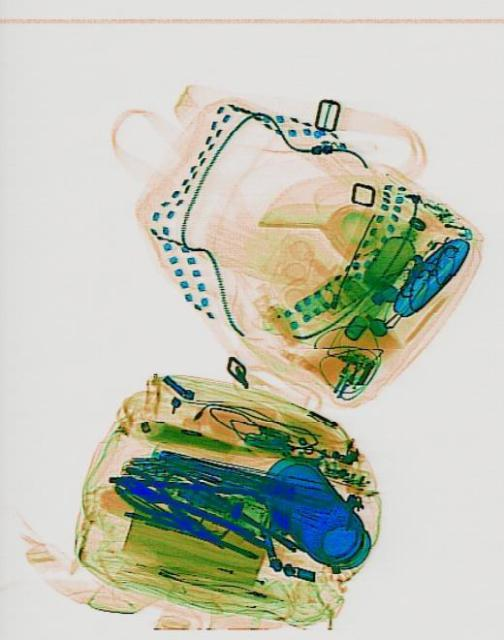Pliers: (110, 459, 223, 559)
